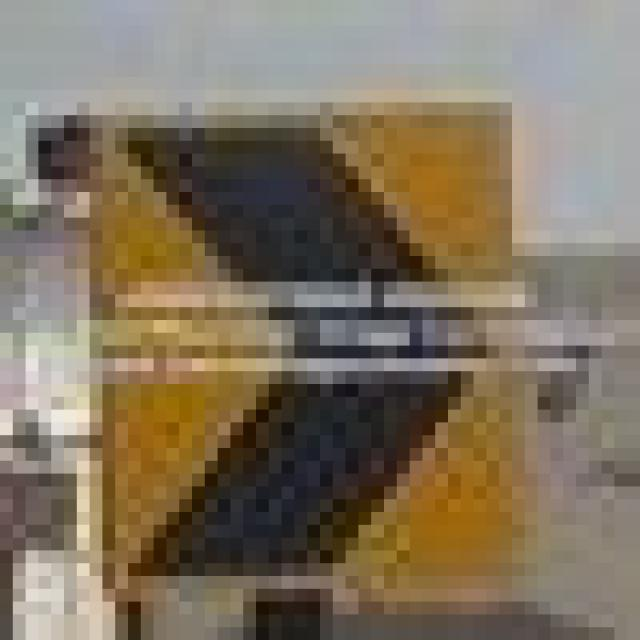DIRECTION: (77, 102, 525, 576)
